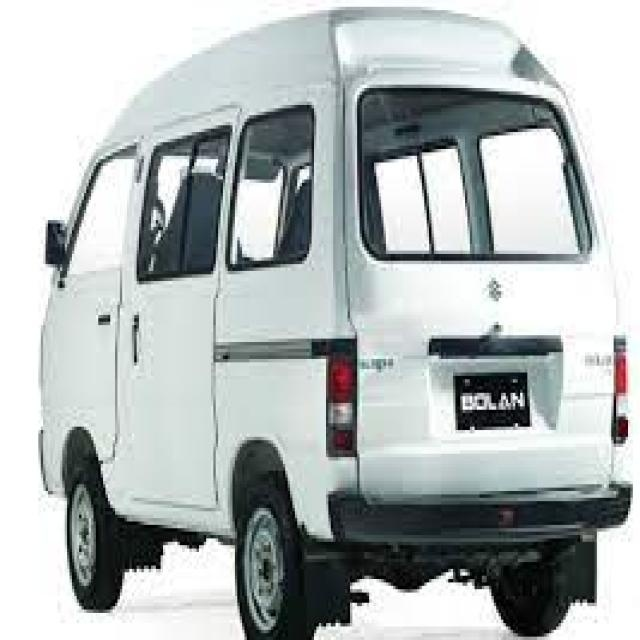Van: (41, 3, 633, 640)
